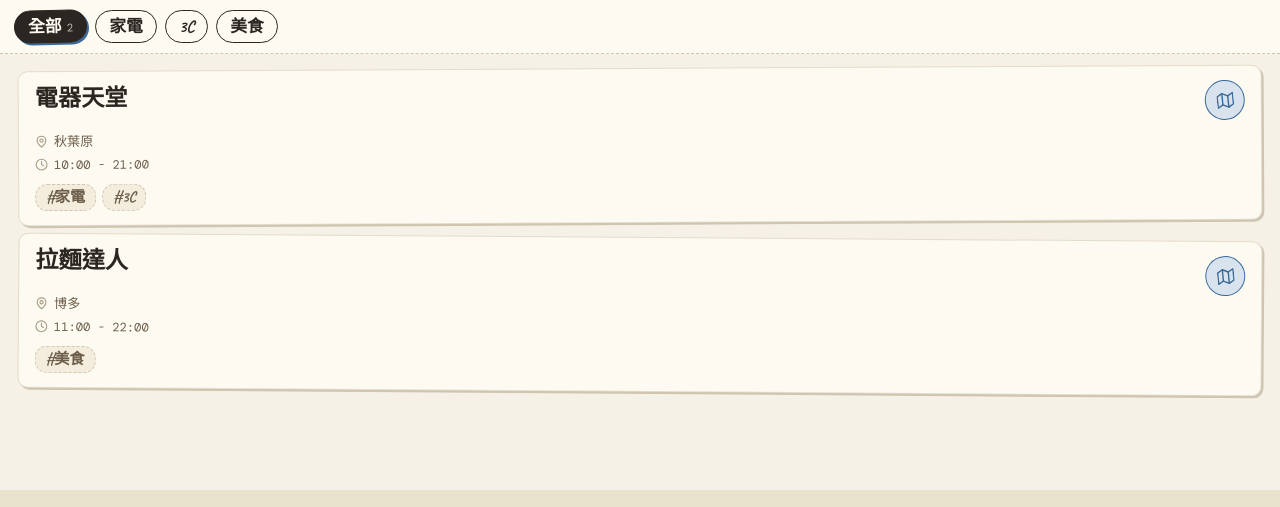
Shops › 點選特定 tag 只顯示符合的店家
Click the button "家電".
click(126, 27)  # box [95,10,157,43]
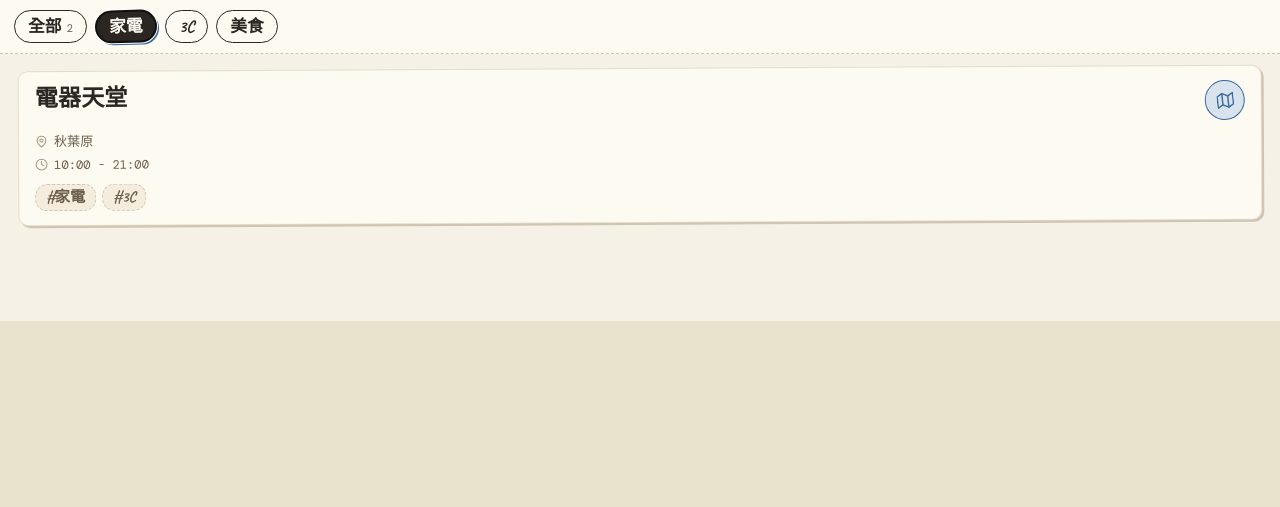
Expected: the text "電器天堂" is shown, [35,84,128,113]
Expected: the text "拉麵達人" is gone
